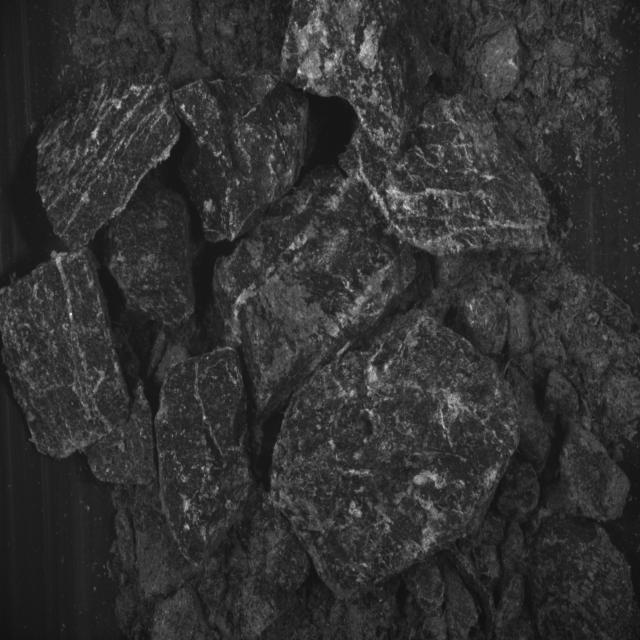Stones: (272, 311, 520, 599), (214, 169, 416, 420), (341, 96, 550, 257), (1, 249, 130, 458), (39, 77, 181, 251), (282, 1, 436, 156), (174, 74, 309, 243), (156, 347, 251, 566), (106, 178, 196, 325), (547, 423, 631, 521), (85, 384, 157, 485), (477, 26, 521, 101), (460, 291, 509, 357), (152, 588, 212, 640)
